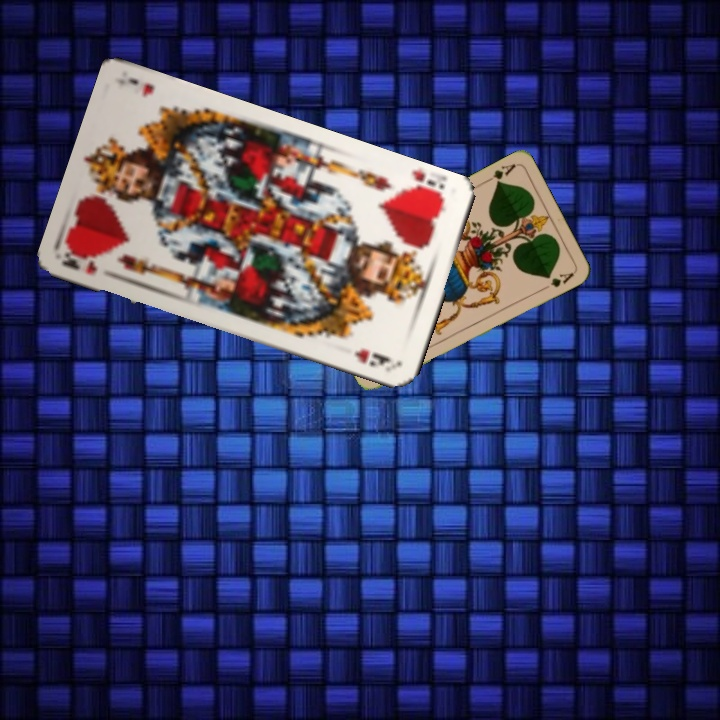GA: (481, 159, 519, 187)
HK: (398, 175, 448, 205), (59, 245, 100, 277)
